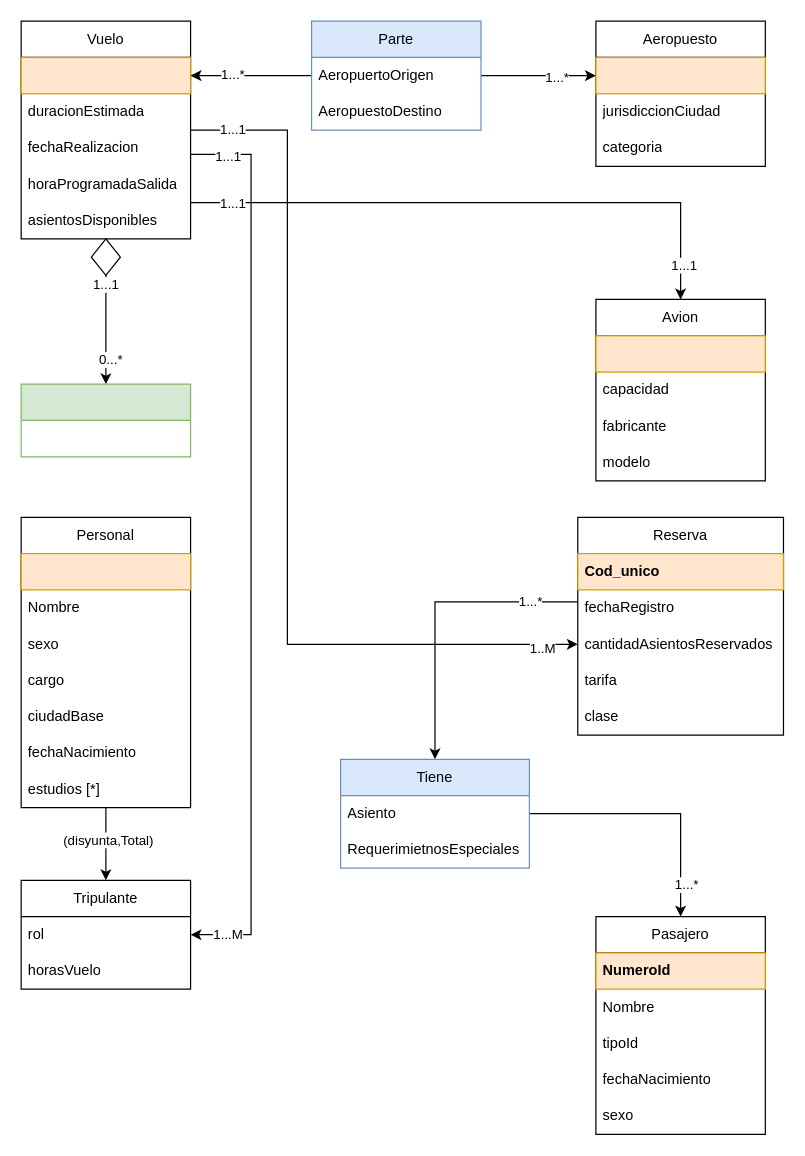
Some shapes in this 805 by 1156 pixel diagram are drawn without their labels. The shapes that lost their labels are listed below. From the top down, each one's centre as x and y in pixels, then its label:
(105,75): Cod_id *
(680,75): IATA
(680,353): N_matricula
(105,420): ParadaTecnica
(105,571): ID
